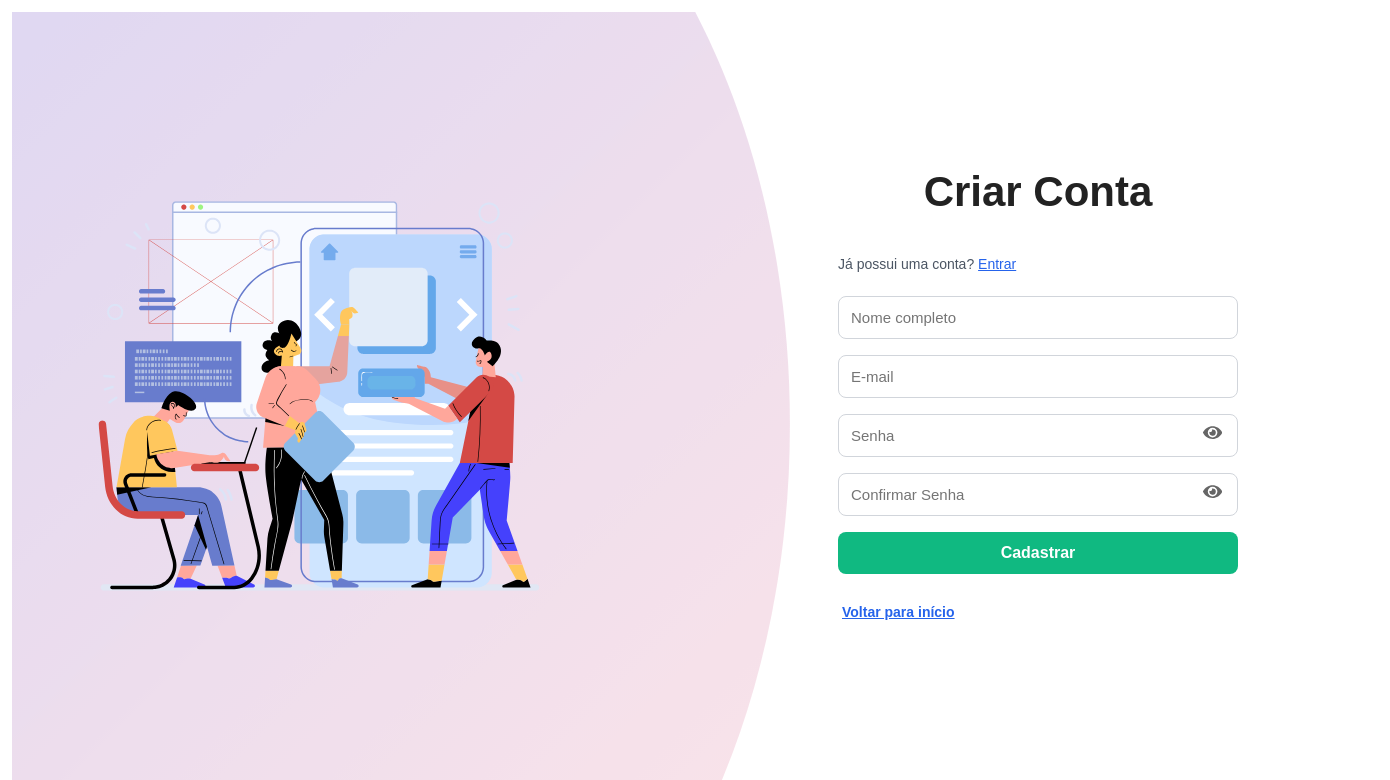
Test: Cadastro › deve exibir erros de validação se campos estiverem vazios
Click the button "Cadastrar" at coordinates (1038, 553), box x1=838 y1=532 x2=1238 y2=574
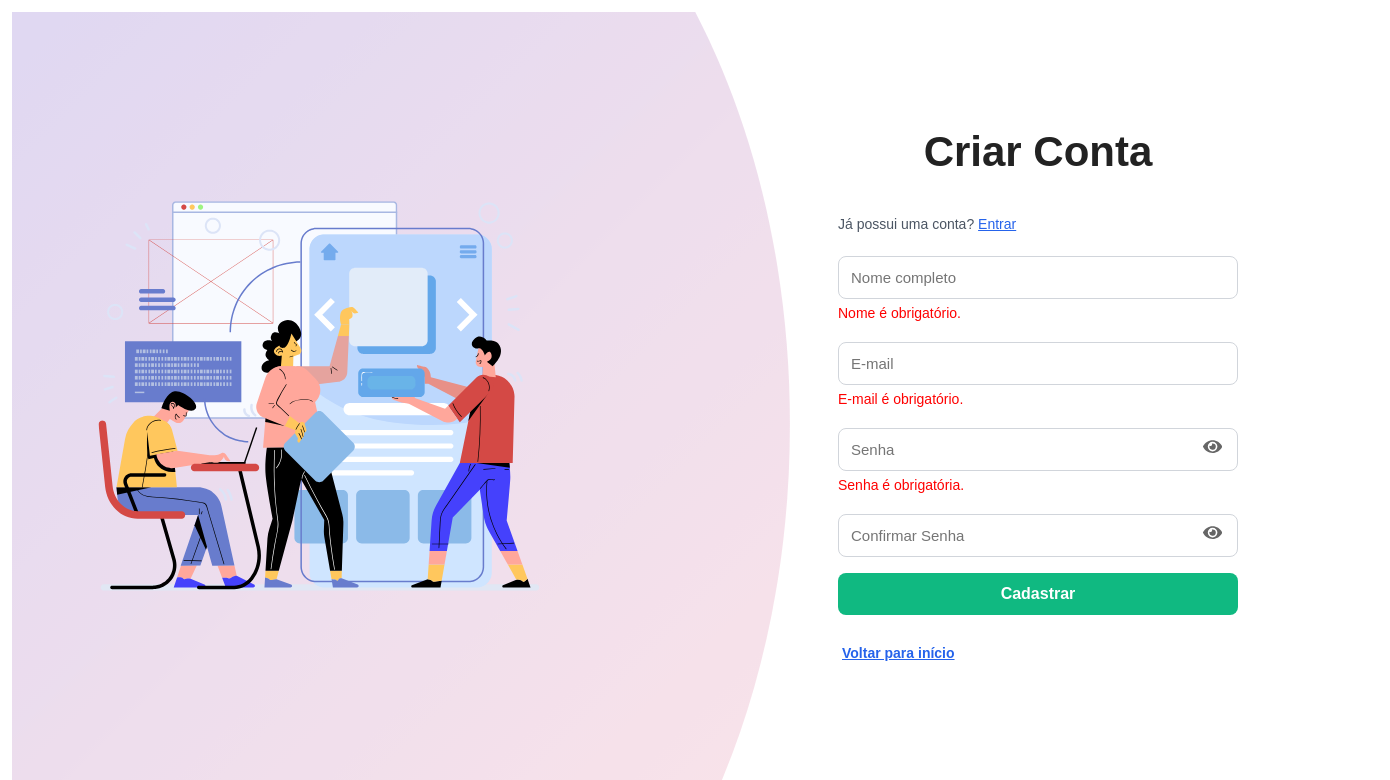
Result: the text "Nome é obrigatório." is shown at x1=838 y1=304 x2=961 y2=320
Result: the text "E-mail é obrigatório." is shown at x1=838 y1=390 x2=963 y2=406
Result: the text "Senha é obrigatória." is shown at x1=838 y1=476 x2=964 y2=492
